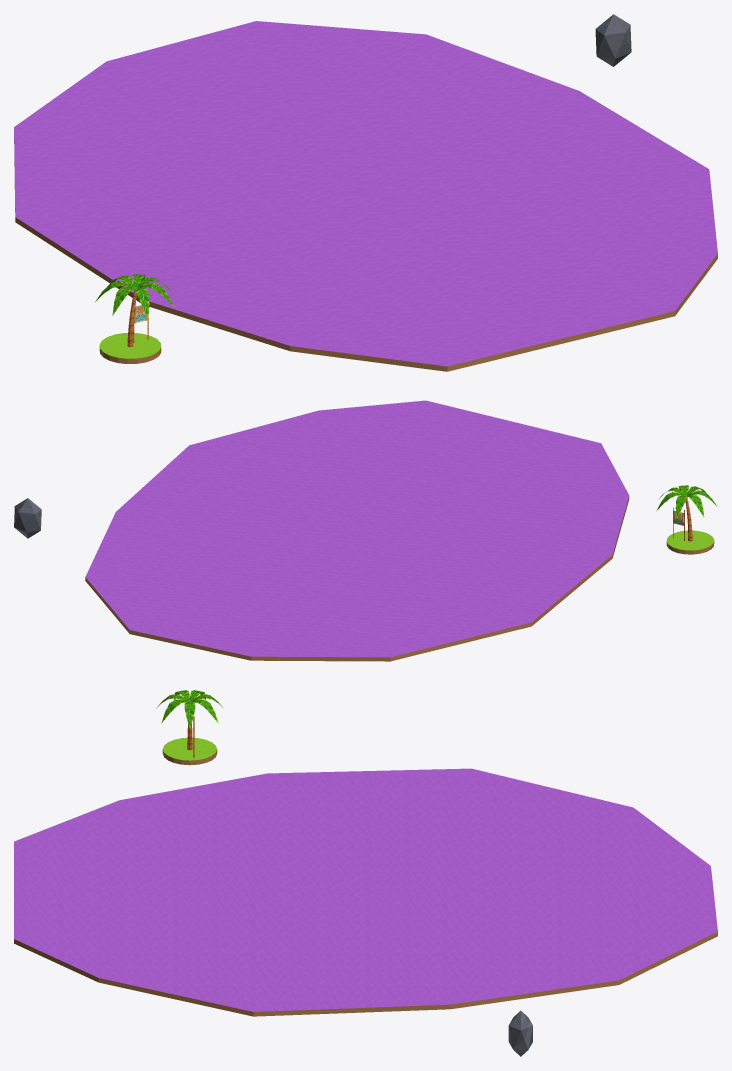
The model's file is surface-20-cNf1gA8t.glb.
3 renders of one model, top to bottom at view 1: azimuth 30°, elevation 25°; view 2: azimuth 150°, elevation 25°; view 3: azimuth 270°, elevation 25°, orthographic. The views are drawn at different scales.
Parts seen in each view (by area): view 1: HI_Surface_20, HI_SceneryIslet_0.009, HI_Palm.008, HI_BasaltOutcrop.009; view 2: HI_Surface_20, HI_Palm.008, HI_SceneryIslet_0.009, HI_BasaltOutcrop.009; view 3: HI_Surface_20, HI_SceneryIslet_0.009, HI_Palm.008, HI_BasaltOutcrop.009.
Part boxes in pixels (x1,y1,x2,y2): HI_Surface_20: (14,21,717,371); HI_SceneryIslet_0.009: (99,333,161,363); HI_Palm.008: (95,274,174,346); HI_BasaltOutcrop.009: (595,14,631,66); HI_Surface_20: (85,400,629,661); HI_Palm.008: (656,485,717,541); HI_SceneryIslet_0.009: (666,530,714,554); HI_BasaltOutcrop.009: (14,498,41,538); HI_Surface_20: (14,768,717,1016); HI_SceneryIslet_0.009: (162,737,217,765); HI_Palm.008: (156,690,223,749); HI_BasaltOutcrop.009: (508,1011,532,1056).
Size of the model in its own units: 45.25 by 5.15 by 44.
6 materials, 5 textured.
